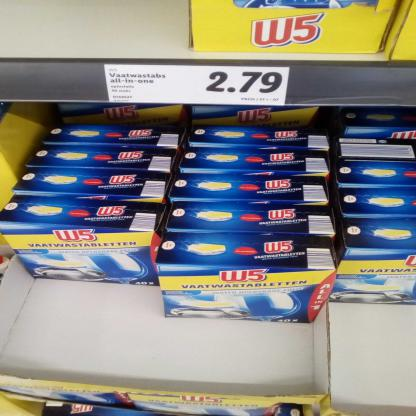prtg: (105, 65, 291, 107)
